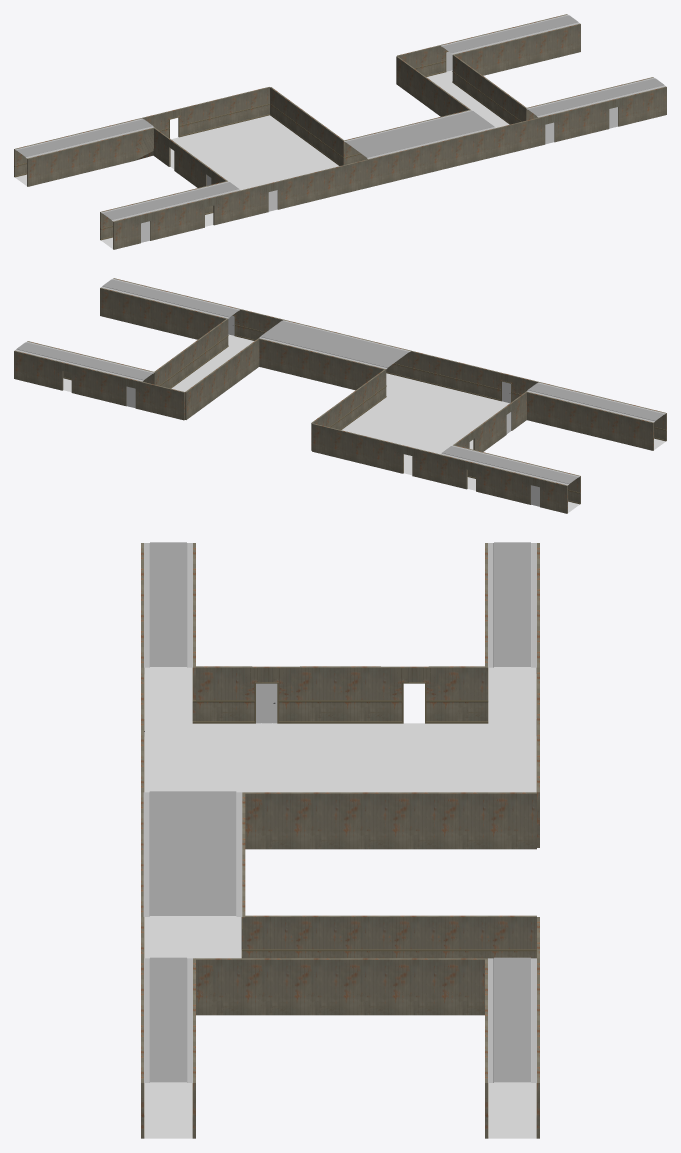
The model's file is Level.fbx.
3 renders of one model, top to bottom at view 1: azimuth 30°, elevation 25°; view 2: azimuth 150°, elevation 25°; view 3: azimuth 270°, elevation 25°, orthographic. The views are drawn at different scales.
Visible parts, largest first — view 1: Wall.074, Floor.002, Wall.001, Wall.002, Wall.080, Ceiling.003, Doorframe.007, Wall.086, Wall.014, Ceiling.002, Ceiling.005, Ceiling.004 (+3 smaller); view 2: Wall.001, Floor.002, Wall.074, Doorframe.007, Wall.020, Wall.092, Ceiling.003, Wall.048, Wall.086, Wall.014, Ceiling.002, Ceiling.004 (+10 smaller); view 3: Floor.002, Wall.001, Wall.086, Wall.014, Doorframe.007, Ceiling.003, Ceiling.004, Ceiling.005, Ceiling.002, Ceiling.001, Floor.004, Floor (+6 smaller).
Part boxes in pixels (<box>): Wall.074: <box>113,86,666,249</box>; Floor.002: <box>170,115,339,190</box>; Wall.001: <box>14,87,345,177</box>; Wall.002: <box>27,128,153,186</box>; Wall.080: <box>453,23,580,75</box>; Ceiling.003: <box>344,110,495,159</box>; Doorframe.007: <box>396,40,470,116</box>; Wall.086: <box>452,54,526,124</box>; Wall.014: <box>153,127,227,187</box>; Ceiling.002: <box>101,181,240,221</box>; Ceiling.005: <box>440,14,579,54</box>; Ceiling.004: <box>526,77,665,117</box>; Wall.001: <box>311,369,567,513</box>; Floor.002: <box>341,379,509,475</box>; Wall.074: <box>113,278,666,441</box>; Doorframe.007: <box>120,338,259,420</box>; Wall.020: <box>526,391,653,450</box>; Wall.092: <box>100,287,226,339</box>; Ceiling.003: <box>259,320,410,369</box>; Wall.048: <box>14,350,120,404</box>; Wall.086: <box>154,318,228,388</box>; Wall.014: <box>453,392,526,451</box>; Ceiling.002: <box>526,382,665,422</box>; Ceiling.004: <box>101,278,240,318</box>; Floor.002: <box>144,723,536,792</box>; Wall.001: <box>242,543,539,849</box>; Wall.086: <box>193,958,487,1015</box>; Wall.014: <box>196,666,487,723</box>; Doorframe.007: <box>241,915,539,979</box>; Ceiling.003: <box>143,791,242,916</box>; Ceiling.004: <box>144,957,192,1082</box>; Ceiling.005: <box>488,957,536,1082</box>; Ceiling.002: <box>144,542,192,667</box>; Ceiling.001: <box>488,542,536,667</box>; Floor.004: <box>144,916,241,958</box>; Floor: <box>488,667,536,723</box>.
Size of the model in its own units: 5200 by 254 by 1625.
